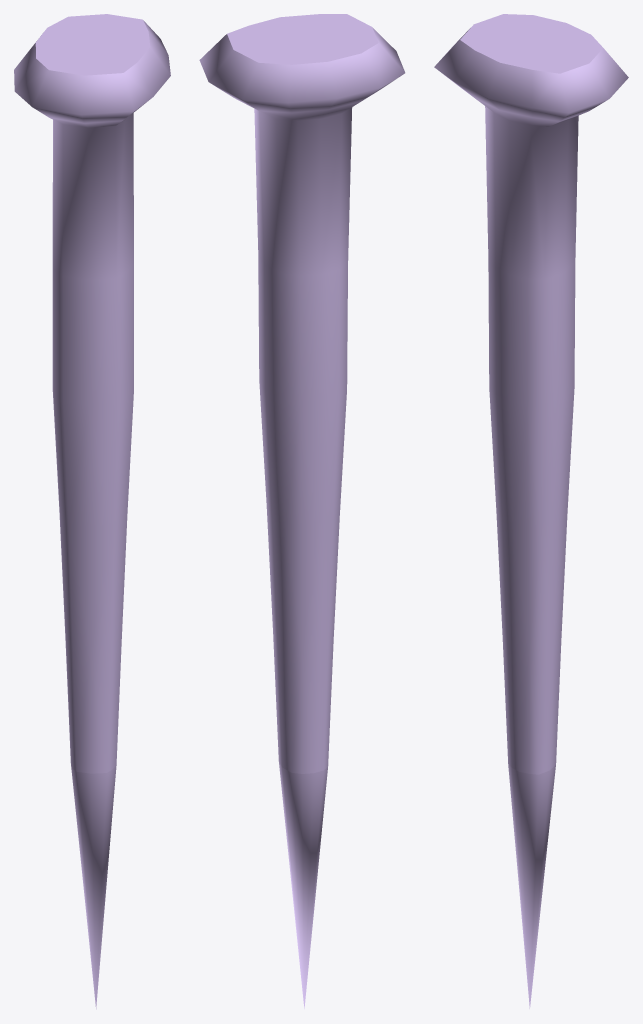
The model's file is w_stake.fbx.
3 views of the same model, side by side, from view 1: azimuth 30°, elevation 25°; view 2: azimuth 150°, elevation 25°; view 3: azimuth 270°, elevation 25° (orthographic).
Visible parts, largest first — view 1: w_stake; view 2: w_stake; view 3: w_stake.
Boxes of the visible parts, x1,y1,x2,y2 form: w_stake: [14, 14, 170, 1009]; w_stake: [199, 14, 405, 1008]; w_stake: [434, 14, 628, 1008].
Size of the model in its own units: 244 by 1351 by 247.
